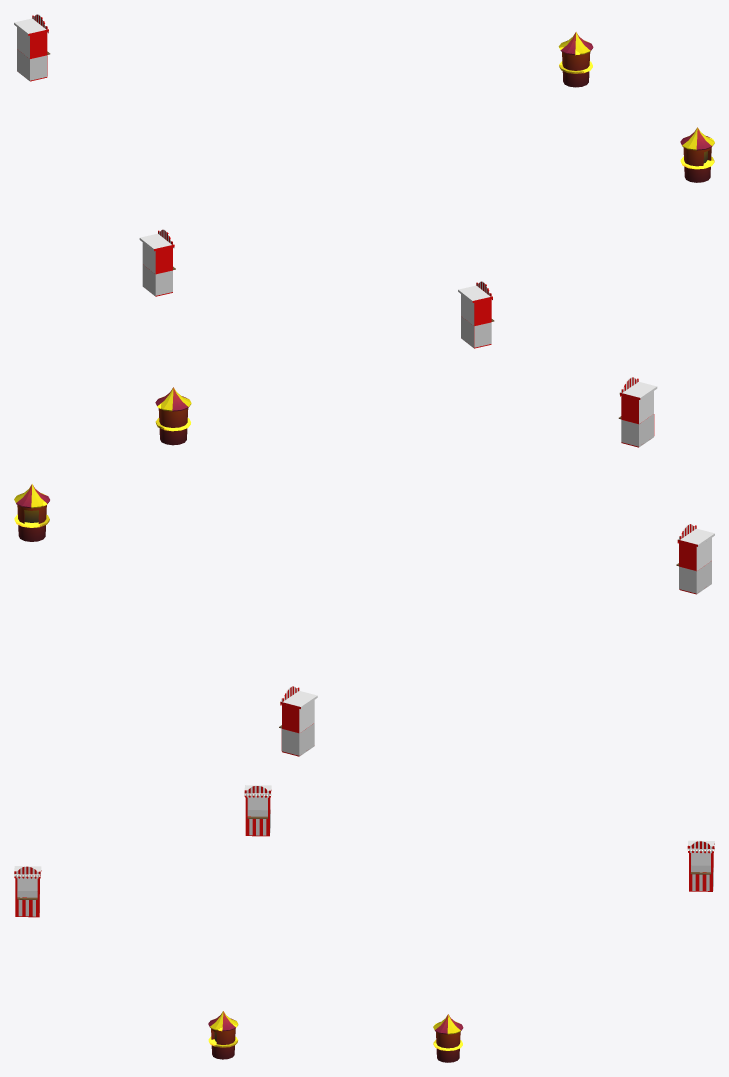
File: TicketBooth.glb
3 renders of one model, top to bottom at view 1: azimuth 30°, elevation 25°; view 2: azimuth 150°, elevation 25°; view 3: azimuth 270°, elevation 25°, orthographic. The views are drawn at different scales.
Parts seen in each view (by area): view 1: polySurface43_surfaceShader3_0.001; view 2: polySurface43_surfaceShader3_0.001; view 3: polySurface43_surfaceShader3_0.001.
Part boxes in pixels (x1=…): polySurface43_surfaceShader3_0.001: x1=14, y1=14, x2=714, y2=348; polySurface43_surfaceShader3_0.001: x1=14, y1=377, x2=714, y2=756; polySurface43_surfaceShader3_0.001: x1=14, y1=785, x2=714, y2=1062.
Size of the model in its own units: 7.46 by 0.7544 by 9.36.
Materials: 59 (2 with a texture image).
